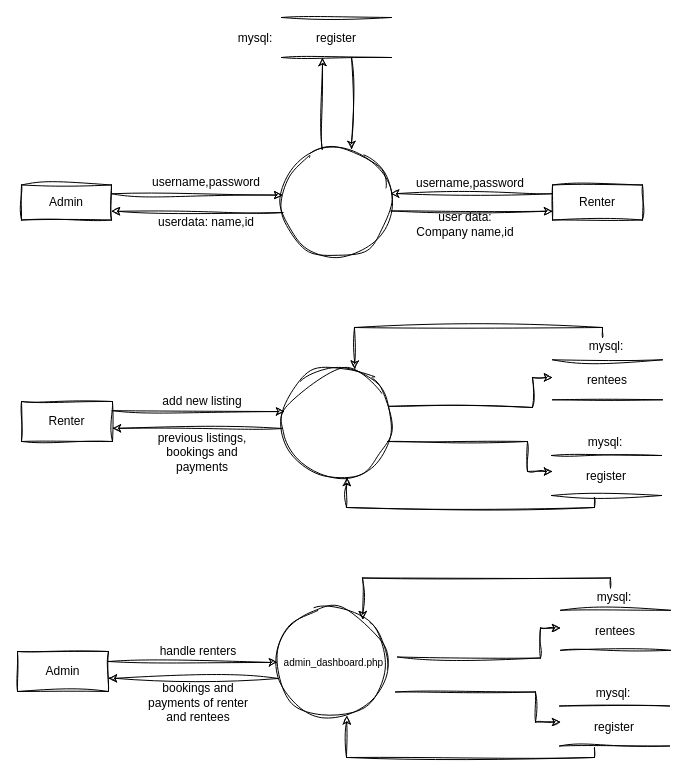
The diagram is 689 pixels wide and 783 high, and some of its shapes have lost their labels. Each missing label, with the box of its shape:
open login form login.php: (280, 146, 392, 258)
renter_dashboard.php: (282, 366, 392, 478)
